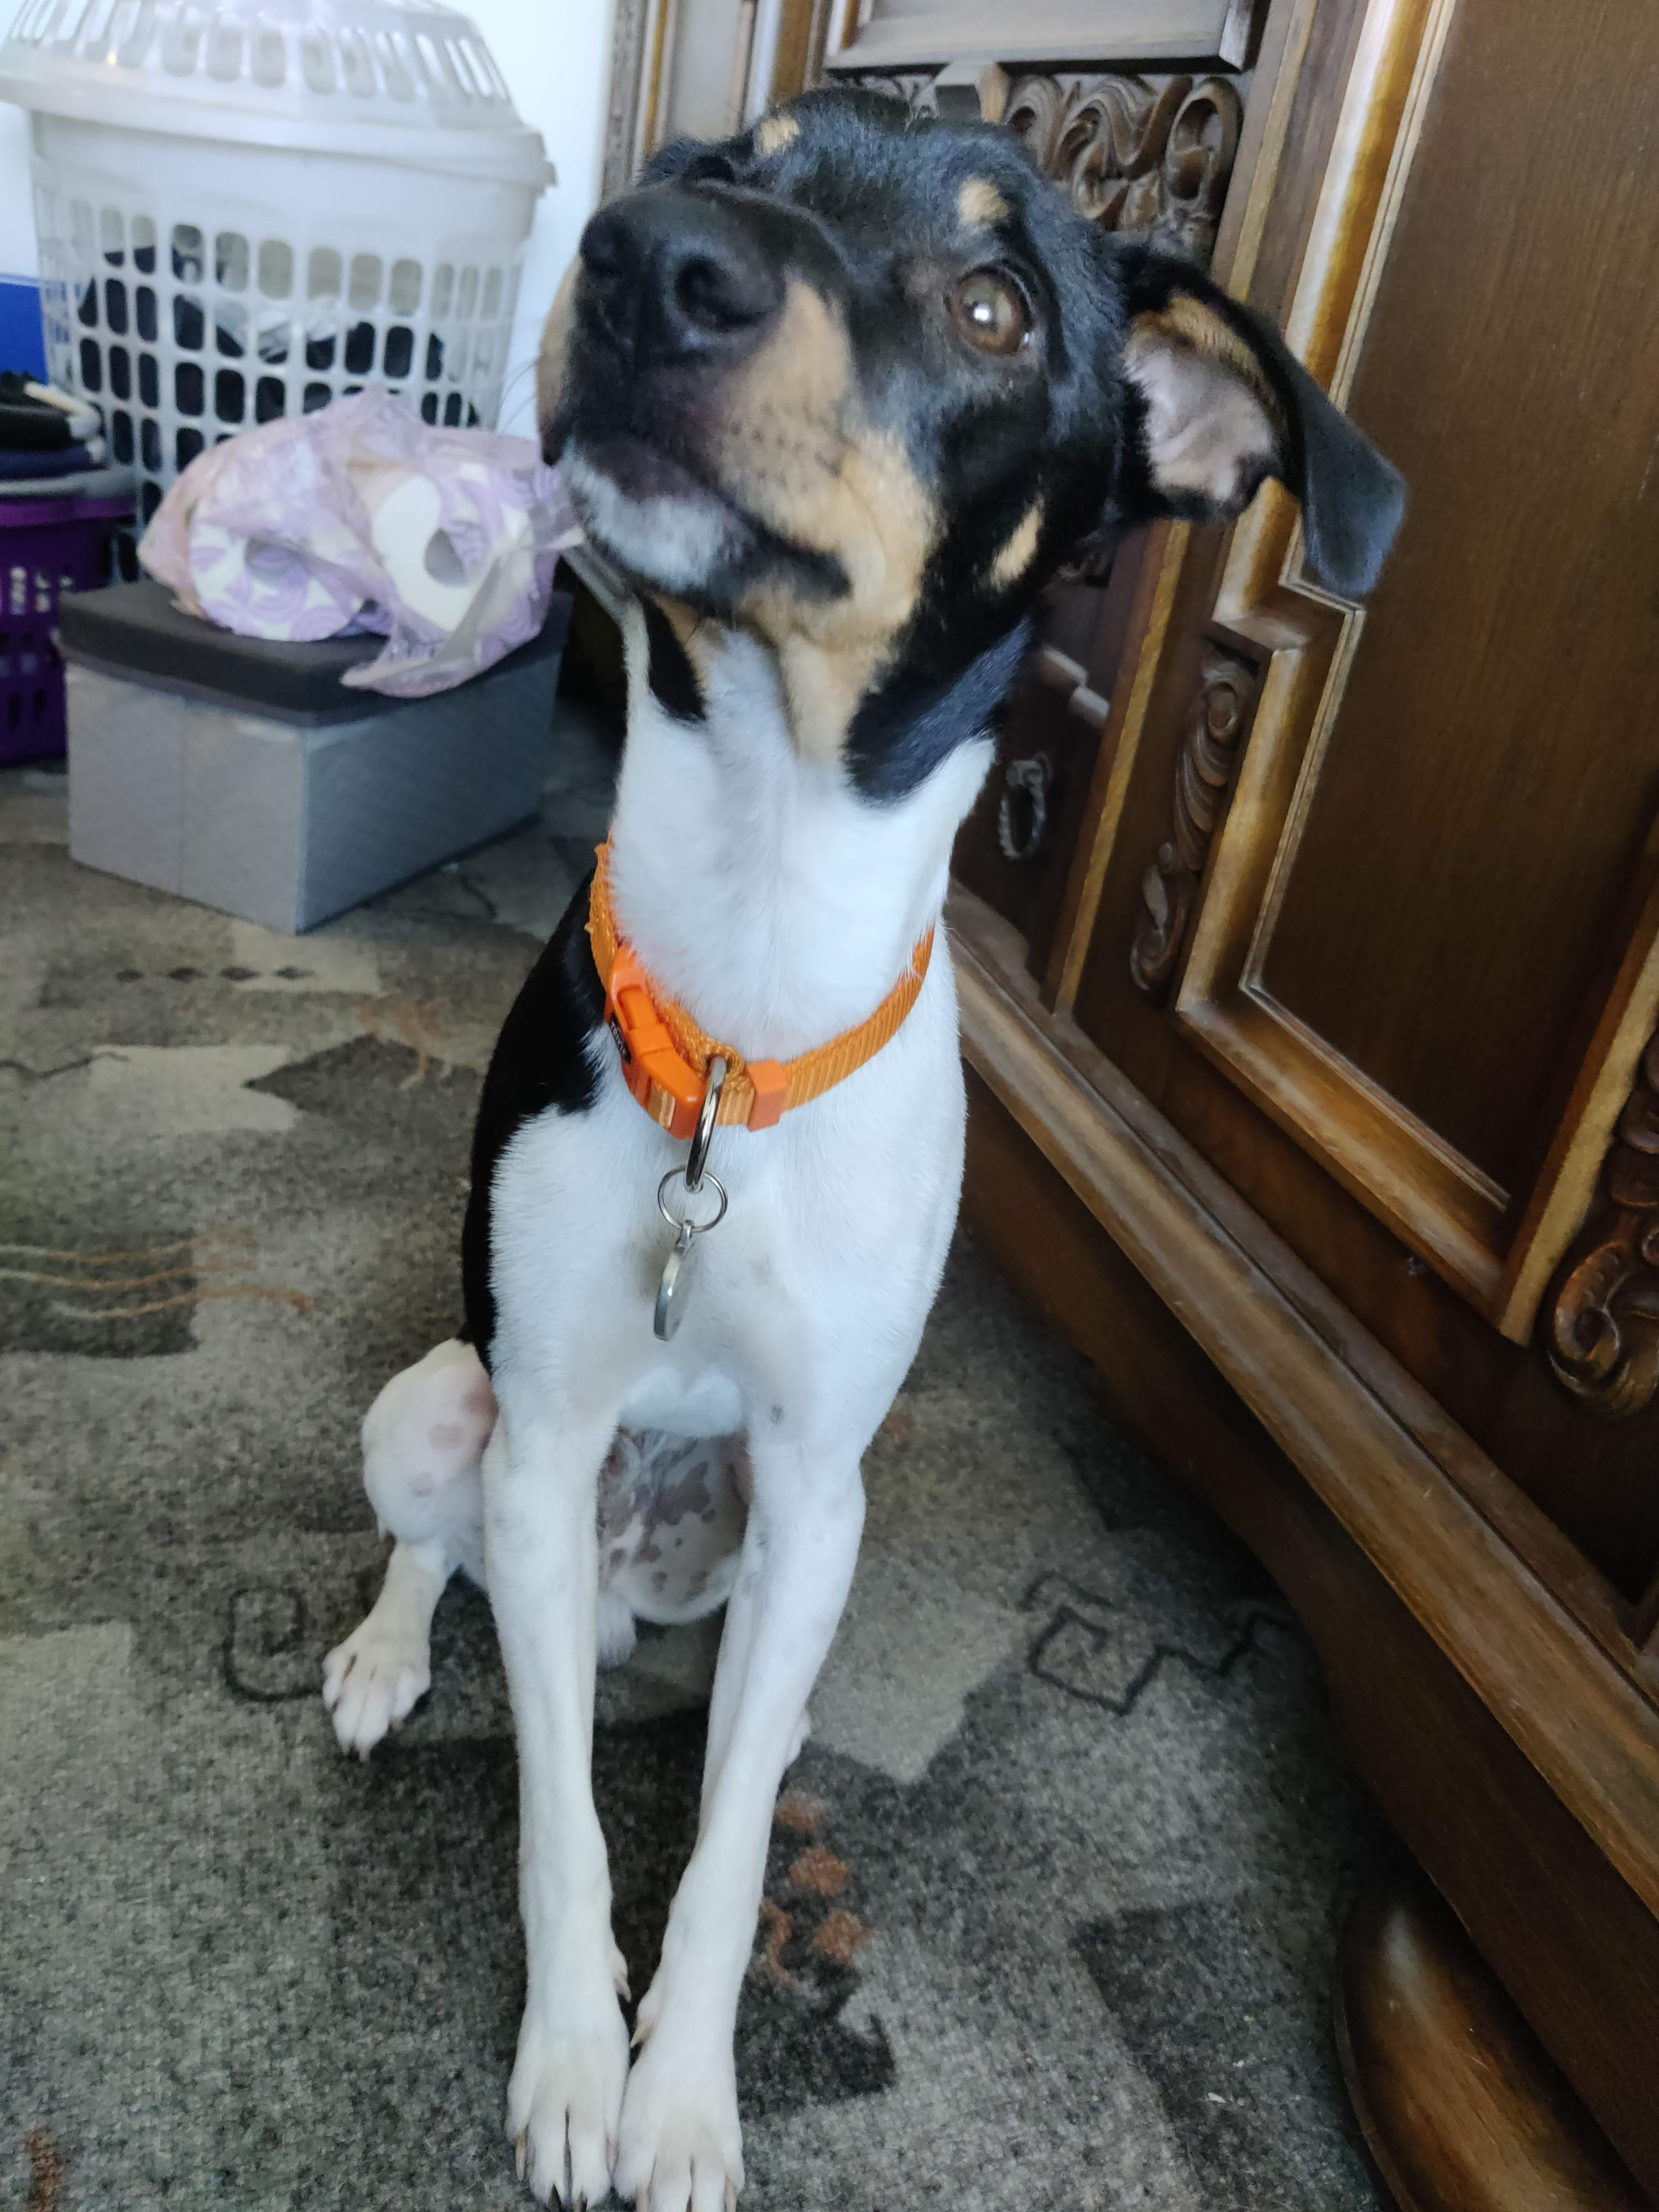Dog: (307, 77, 1410, 2212)
